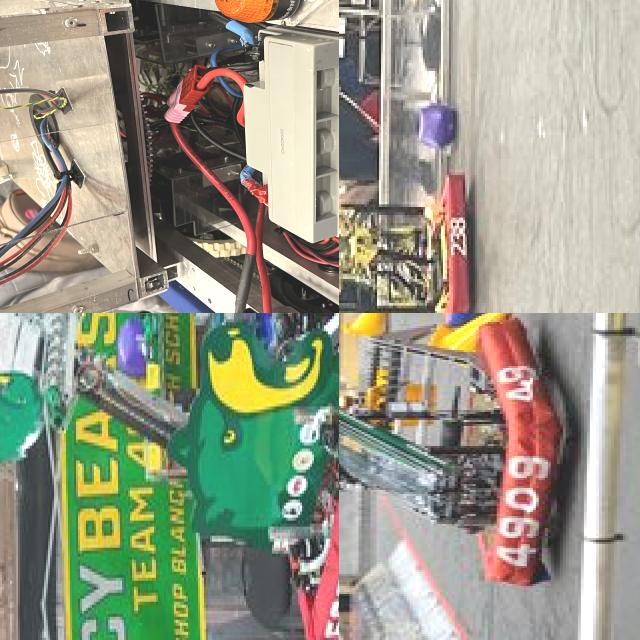FRC-Robots: (0, 313, 339, 640), (339, 313, 578, 598), (339, 158, 493, 313)
